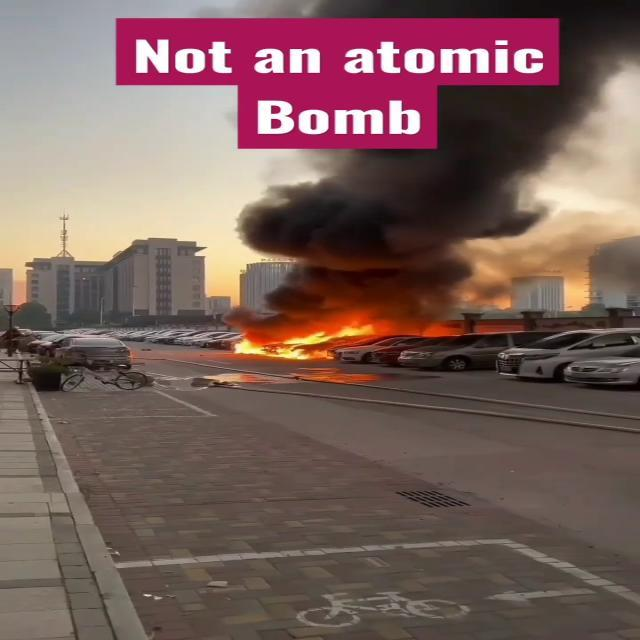Fire: (228, 316, 414, 358)
Smoke: (232, 52, 640, 308)
